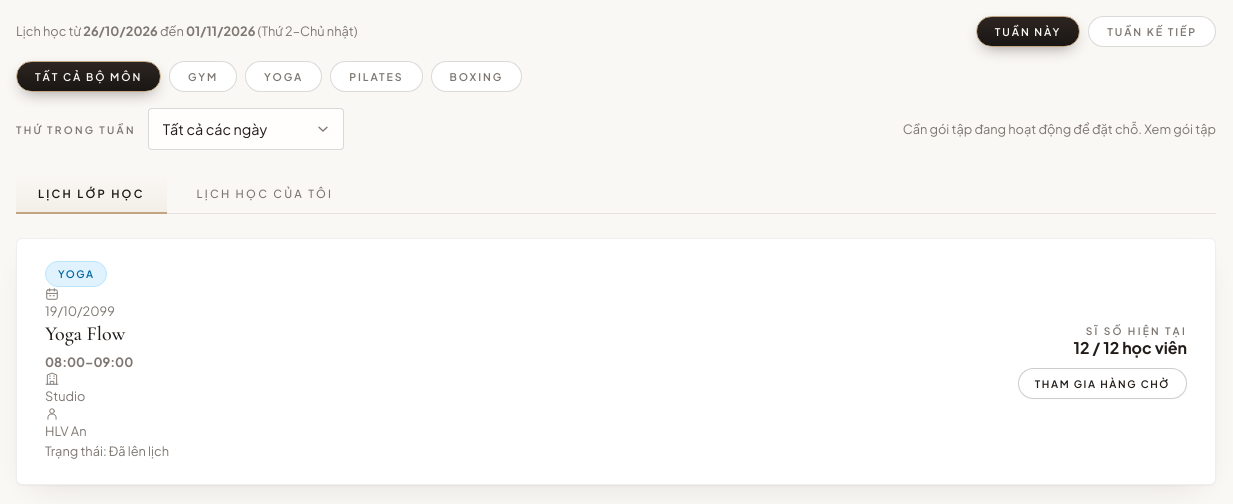
Test: MemberClassesPage › keeps the schedule when waitlists fail and retries only waitlists
Click the tab "Lịch học của tôi": (265, 194) [175, 174, 355, 214]
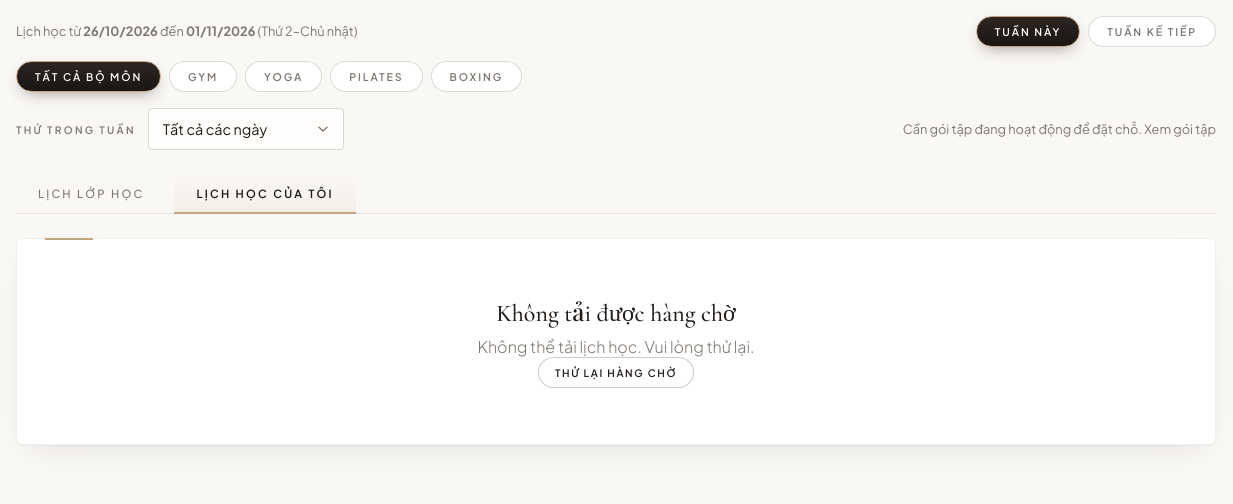
Expected: the text "Không tải được hàng chờ" is shown, [496, 299, 736, 328]
Click the button "Thử lại hàng chờ": (616, 372) [538, 357, 694, 388]
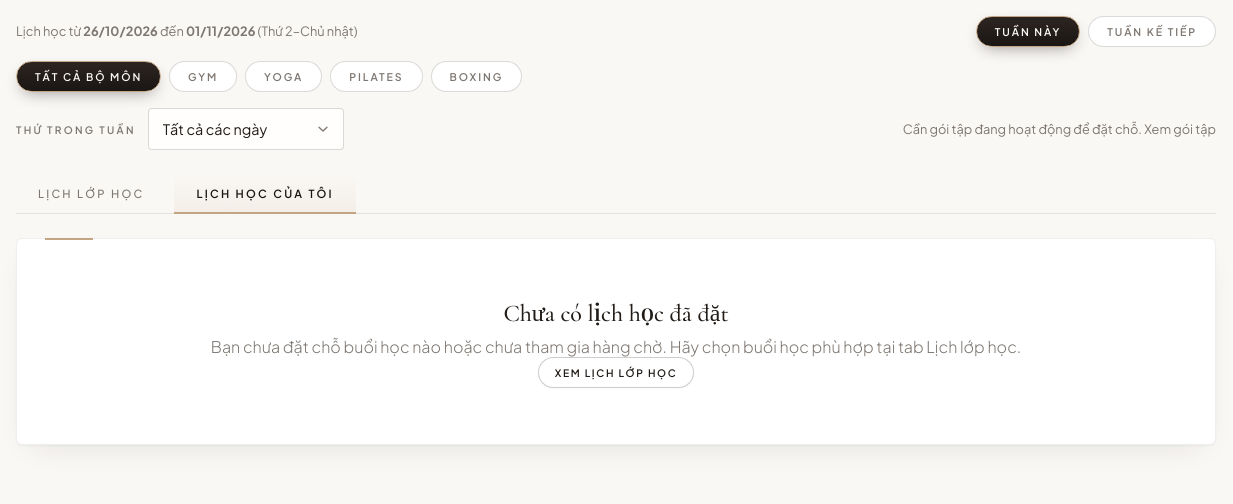
Expected: the text "Không tải được hàng chờ" is gone
